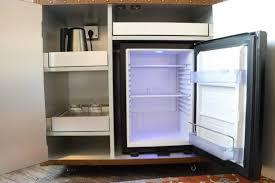fridge: (113, 30, 266, 180)
